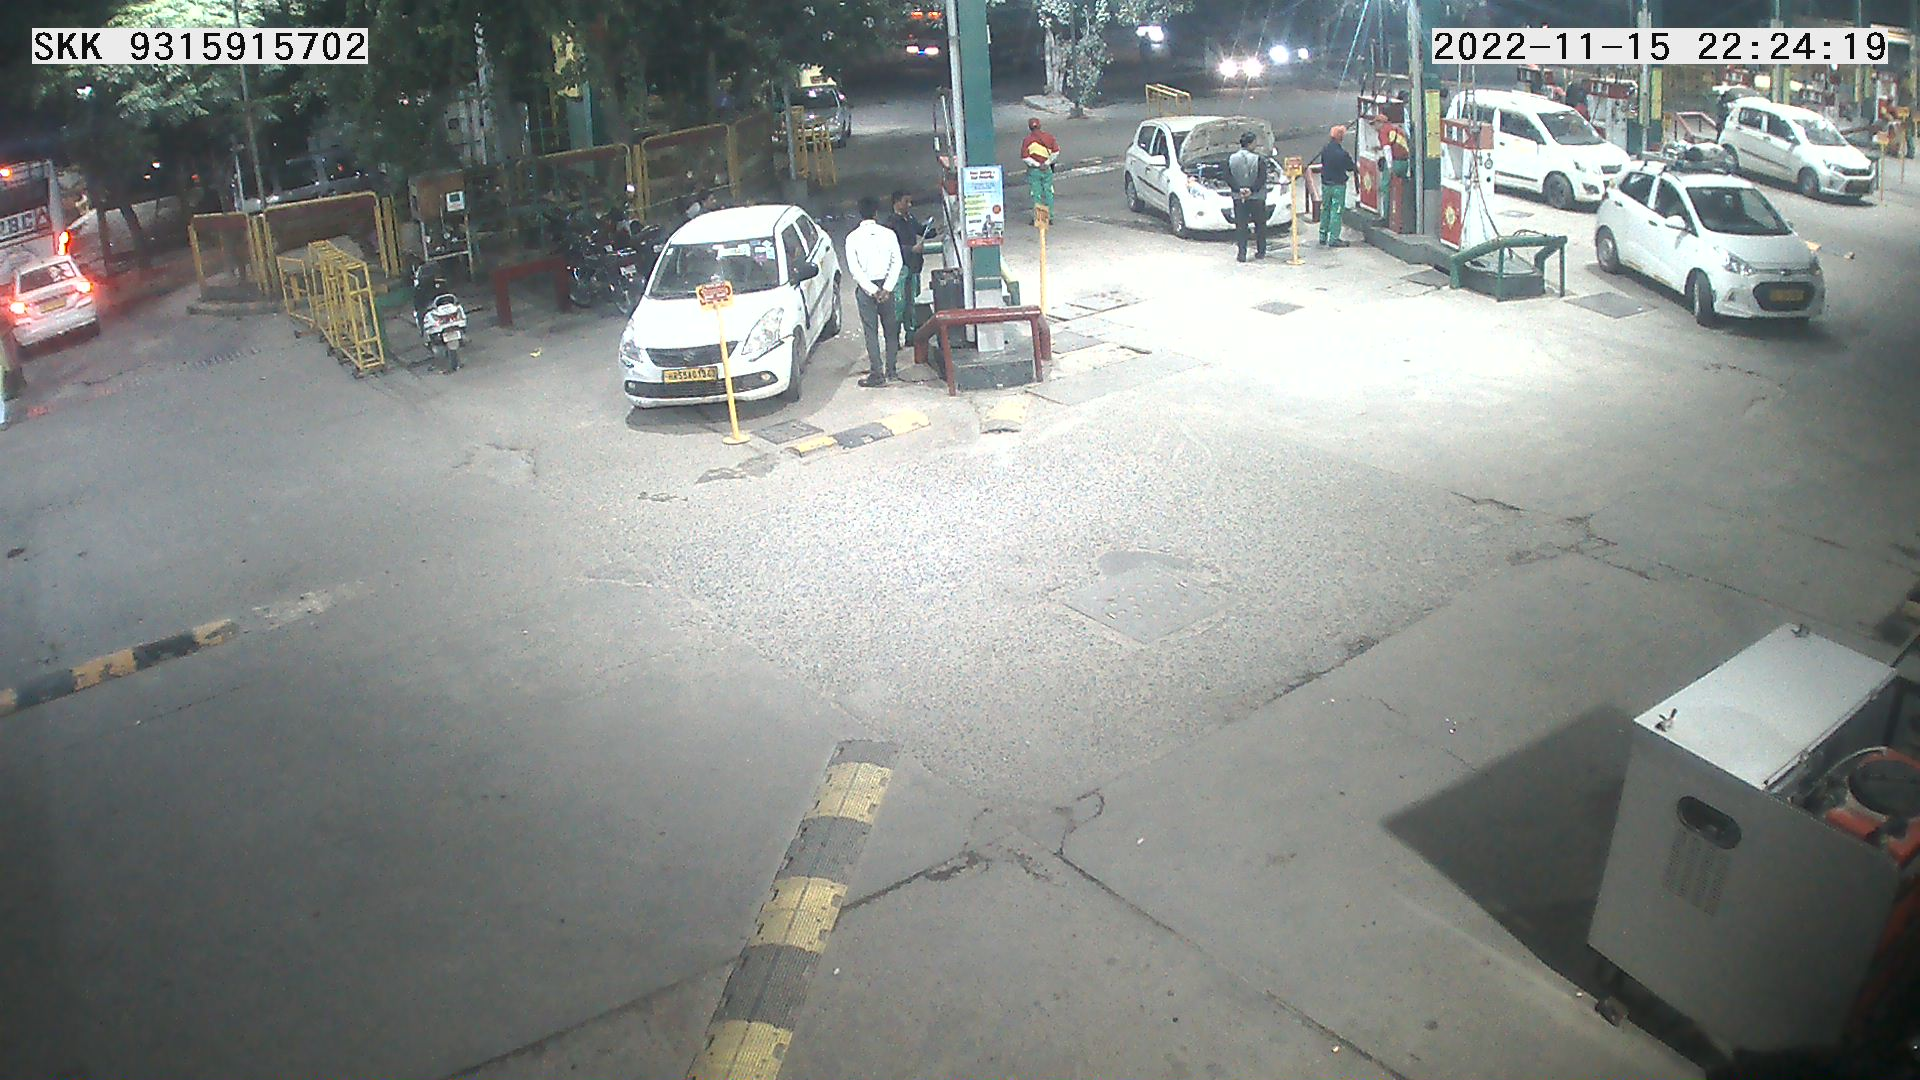Auto: (786, 50, 855, 105)
Bike: (375, 233, 477, 389), (541, 206, 657, 338), (567, 185, 671, 278), (673, 144, 752, 208)
Car: (617, 193, 844, 422), (1582, 153, 1829, 334), (208, 123, 423, 260), (1436, 83, 1634, 212), (1121, 104, 1288, 243), (1698, 88, 1886, 208), (0, 231, 113, 361), (769, 71, 872, 158)
HMV: (1727, 3, 1917, 132), (3, 132, 73, 332)
Others: (874, 185, 953, 367), (1307, 113, 1373, 251), (1010, 111, 1075, 240), (1362, 99, 1414, 233)
Others Other: (699, 294, 764, 458), (1022, 195, 1060, 361), (1276, 154, 1315, 276), (1888, 90, 1917, 189), (1866, 120, 1890, 218), (1656, 99, 1693, 158)
